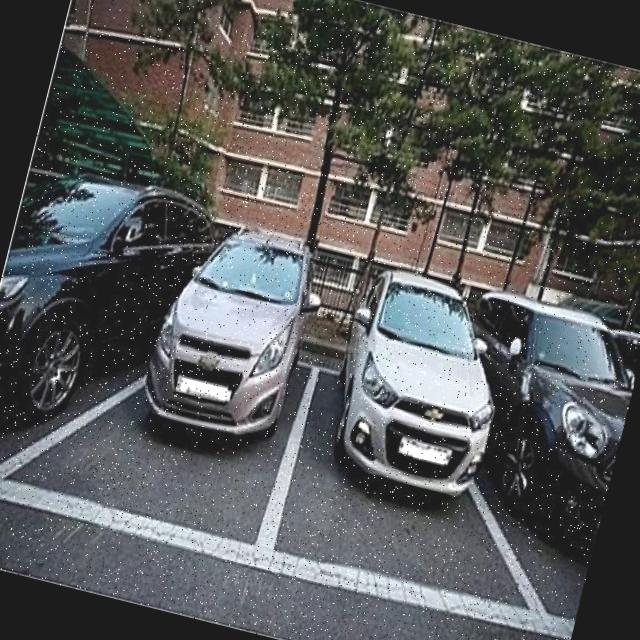car: (290, 242, 554, 548), (111, 195, 344, 532), (0, 144, 183, 475), (481, 289, 640, 584)
